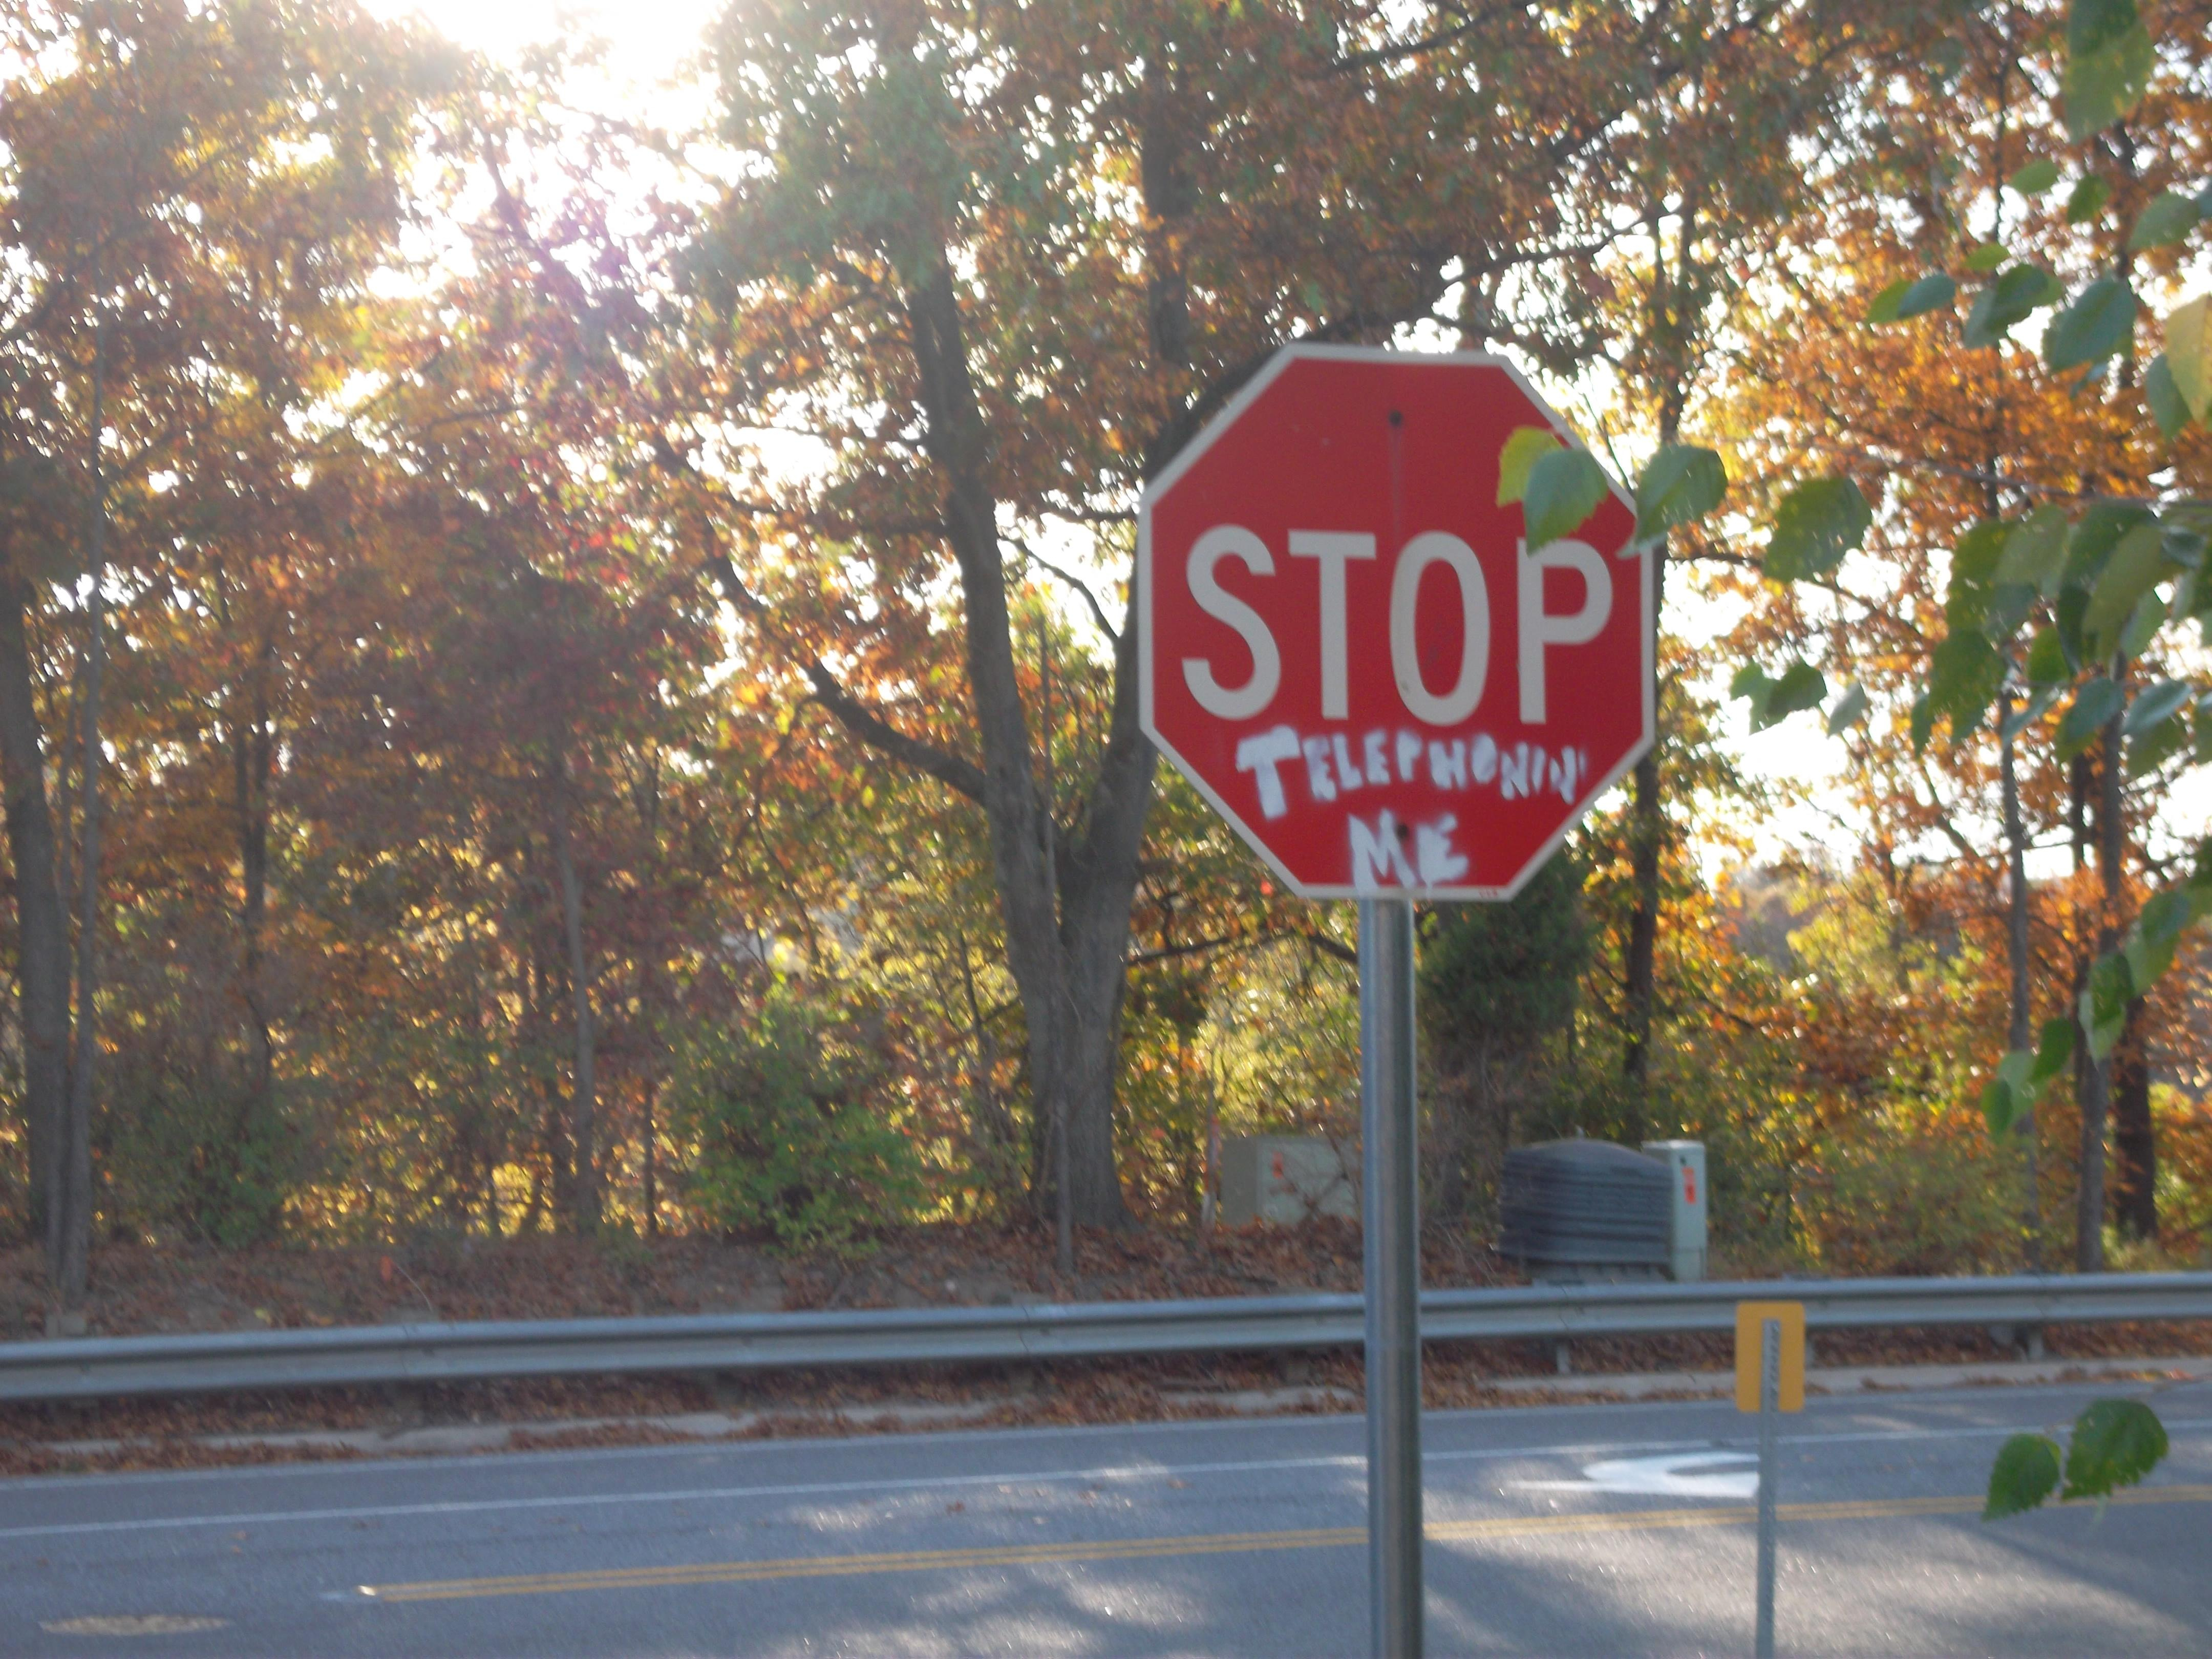stop: (1123, 322, 1677, 931)
